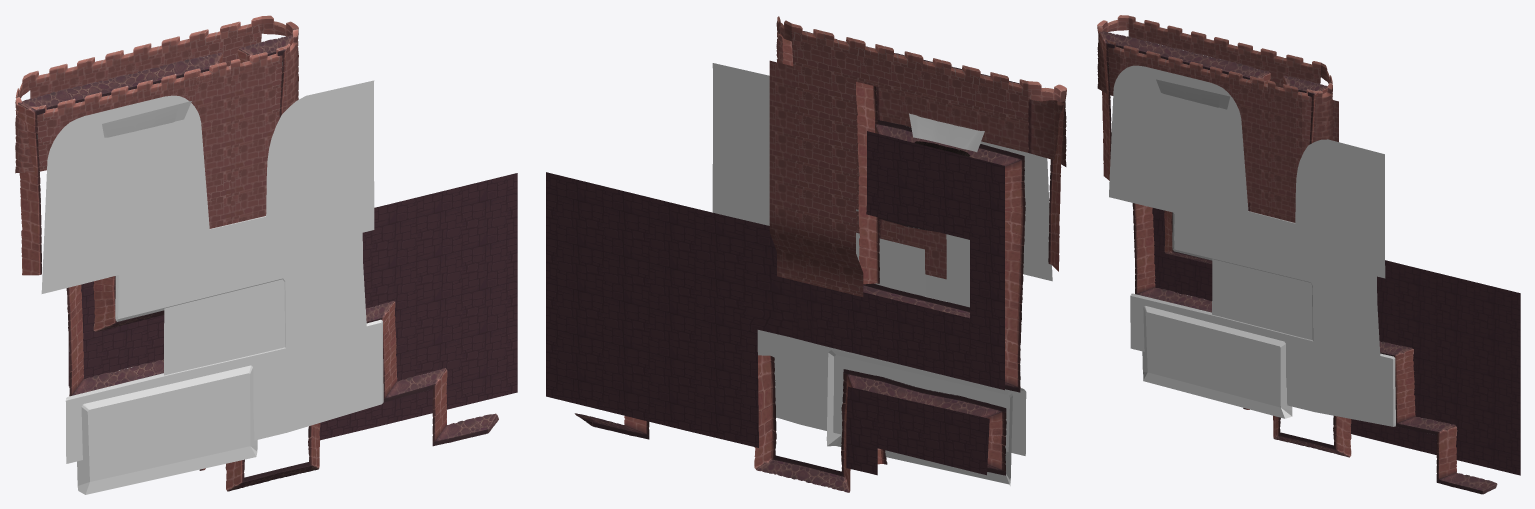
Rendered from LVL 7 Pt3.FBX.
The picture shows the model from 3 angles, left to right: view 1: azimuth 30°, elevation 25°; view 2: azimuth 150°, elevation 25°; view 3: azimuth 330°, elevation 25°; orthographic projection. The views are drawn at different scales.
Visible parts, largest first — view 1: LVL 7 Black Pt 3_3, Griffin Tower BG Pt3_1, LVL 7 Black Pt 3_2, LVL 7 Black Key Room, LVL 7 Black Pt 3_1, Griffin Tower External Wall FG_2, Griffin Tower Pt3_4, Griffin Tower External Wall BG_2, Griffin Tower BG Pt3_2, Griffin Tower Pt3_1, Griffin Tower Pt3_3, Griffin Tower External Wall FG_1 (+4 smaller); view 2: Griffin Tower BG Pt3_1, Griffin Tower BG Pt3_2, Griffin Tower External Wall BG_1, LVL 7 Black Pt 3_3, Griffin Tower External Wall BG_2, LVL 7 Black Pt 3_1, Griffin Tower BG Pt3_3, Griffin Tower Pt3_2, Griffin Tower Pt3_3, LVL 7 Black Pt 3_2, Griffin Tower Pt3_4, Griffin Tower External Wall FG_1 (+7 smaller); view 3: LVL 7 Black Pt 3_3, Griffin Tower BG Pt3_1, LVL 7 Black Pt 3_2, LVL 7 Black Key Room, LVL 7 Black Pt 3_1, Griffin Tower External Wall FG_2, Griffin Tower External Wall BG_2, Griffin Tower Pt3_1, Griffin Tower Pt3_4, Griffin Tower Pt3_3, Griffin Tower BG Pt3_2, Griffin Tower External Wall FG_1 (+4 smaller).
Part boxes in pixels (x1,y1,x2,y2): LVL 7 Black Pt 3_3: (41, 80, 374, 293); Griffin Tower BG Pt3_1: (319, 173, 517, 440); LVL 7 Black Pt 3_2: (65, 216, 366, 463); LVL 7 Black Key Room: (77, 365, 257, 494); LVL 7 Black Pt 3_1: (164, 279, 383, 440); Griffin Tower External Wall FG_2: (190, 52, 272, 228); Griffin Tower Pt3_4: (18, 35, 292, 275); Griffin Tower External Wall BG_2: (30, 16, 261, 98); Griffin Tower BG Pt3_2: (68, 281, 164, 385); Griffin Tower Pt3_1: (365, 301, 498, 446); Griffin Tower Pt3_3: (66, 276, 164, 396); Griffin Tower External Wall FG_1: (53, 70, 191, 142); Griffin Tower BG Pt3_1: (546, 172, 789, 447); Griffin Tower BG Pt3_2: (790, 131, 1004, 390); Griffin Tower External Wall BG_1: (769, 60, 863, 296); LVL 7 Black Pt 3_3: (712, 63, 1052, 281); Griffin Tower External Wall BG_2: (791, 23, 1028, 123); LVL 7 Black Pt 3_1: (757, 232, 925, 434); Griffin Tower BG Pt3_3: (846, 386, 989, 475); Griffin Tower Pt3_2: (754, 355, 1006, 492); Griffin Tower Pt3_3: (846, 120, 1025, 392); LVL 7 Black Pt 3_2: (722, 180, 1026, 455); Griffin Tower Pt3_4: (782, 31, 1064, 284); Griffin Tower External Wall FG_1: (898, 92, 1029, 279); LVL 7 Black Pt 3_3: (1109, 65, 1385, 278); Griffin Tower BG Pt3_1: (1350, 260, 1520, 475); LVL 7 Black Pt 3_2: (1130, 211, 1380, 411); LVL 7 Black Key Room: (1142, 306, 1292, 418); LVL 7 Black Pt 3_1: (1212, 259, 1395, 426); Griffin Tower External Wall FG_2: (1234, 73, 1301, 222); Griffin Tower External Wall BG_2: (1128, 16, 1320, 87); Griffin Tower Pt3_1: (1379, 341, 1497, 494); Griffin Tower Pt3_4: (1099, 31, 1327, 180); Griffin Tower Pt3_3: (1132, 203, 1212, 312); Griffin Tower BG Pt3_2: (1152, 208, 1212, 301); Griffin Tower External Wall FG_1: (1120, 45, 1235, 99).
Bounding box in the file's own units: 4529 × 304 × 3935.
